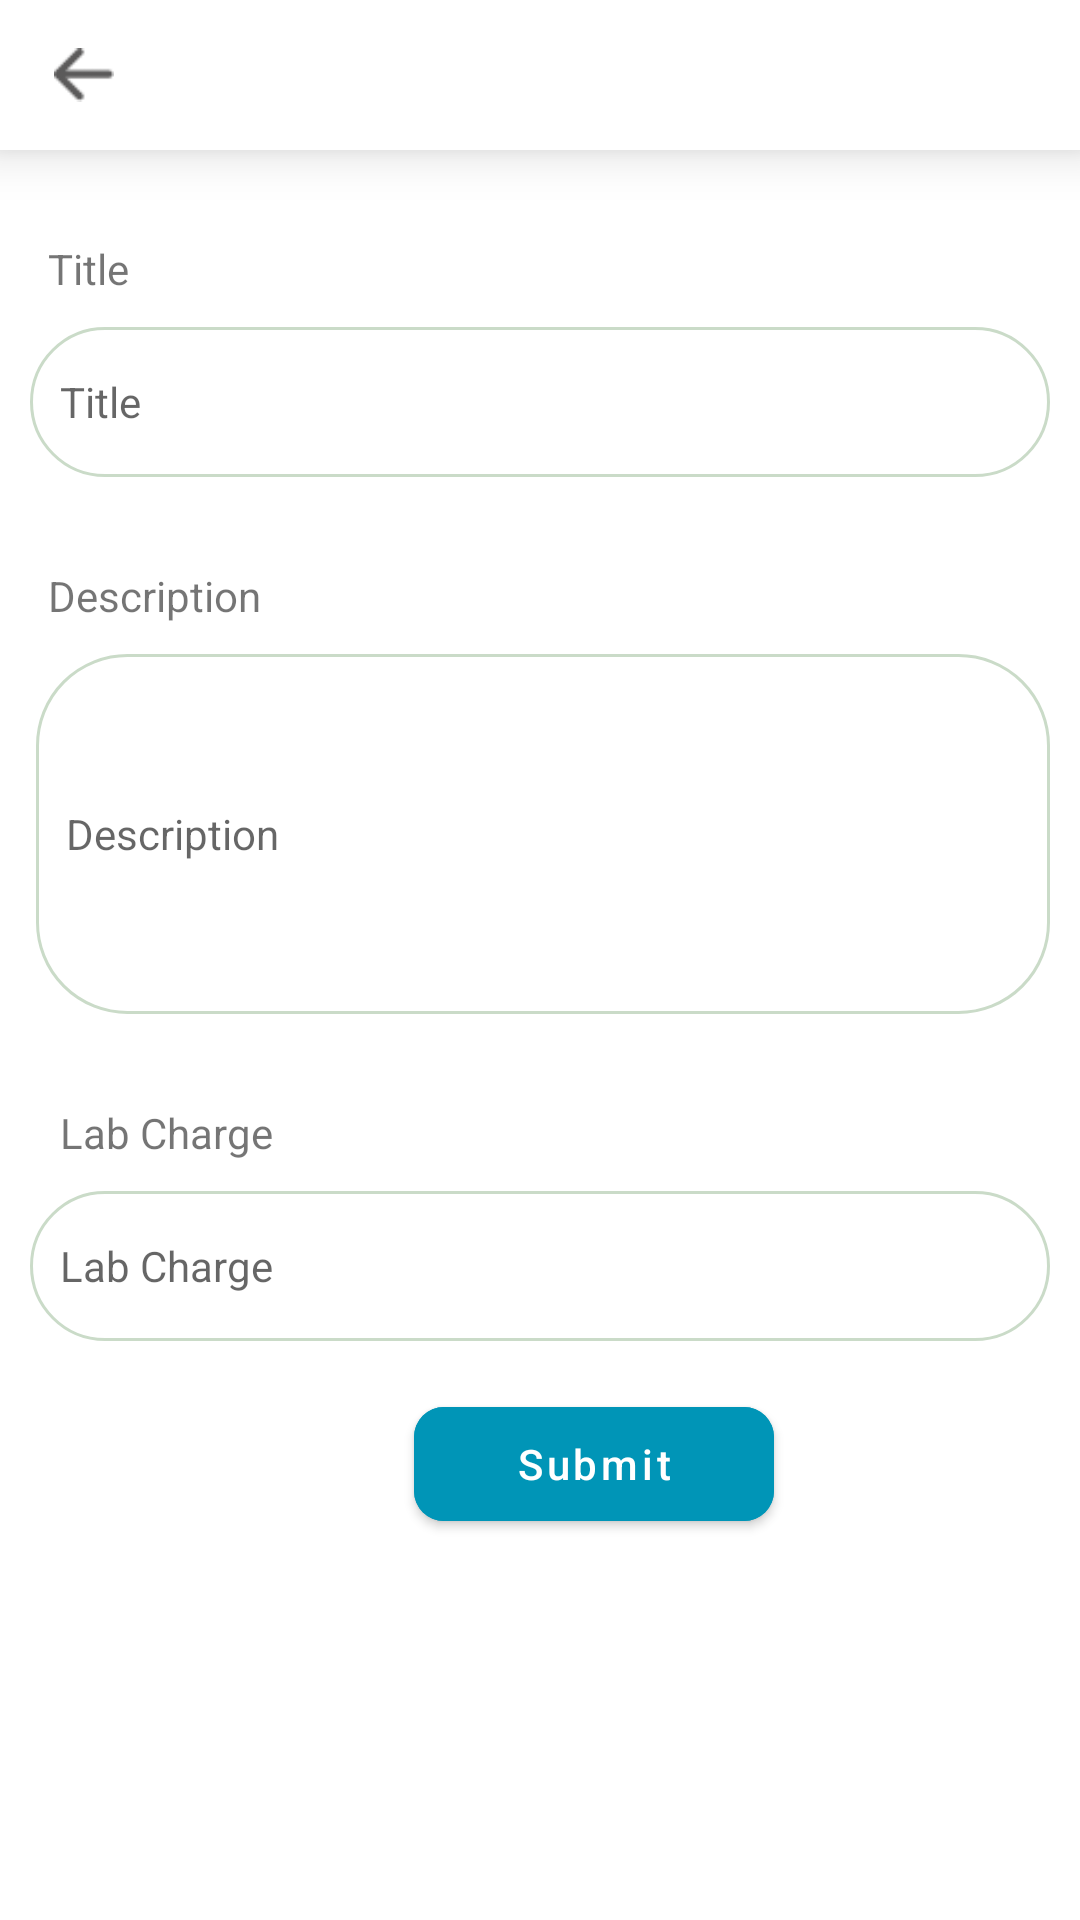

Icon click points for this 1080w x 1920h phone screenshot, format (x,y):
leftarrow: (84,75)
